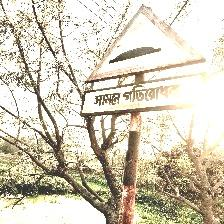Speed-breaker: (81, 4, 207, 117)
